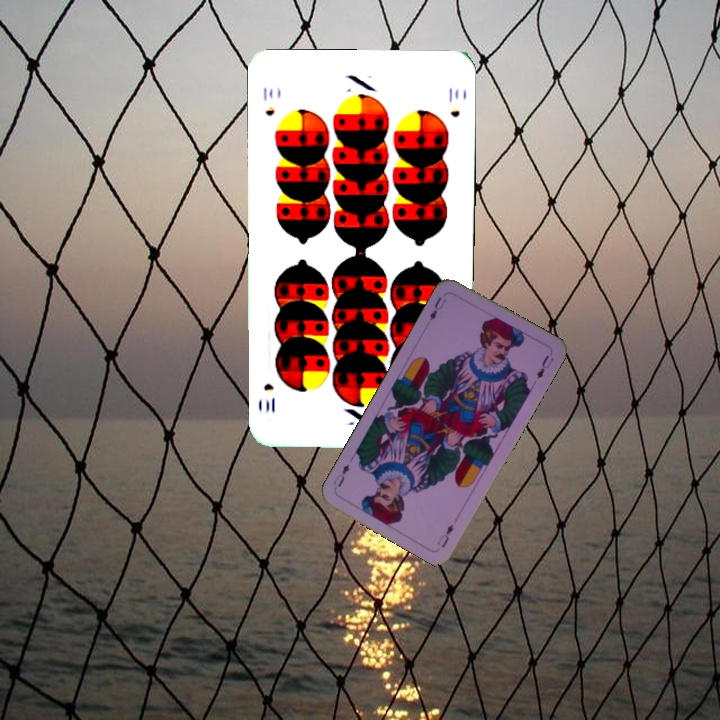EU: (433, 520, 456, 550), (425, 292, 445, 323)
S10: (259, 83, 277, 118)
